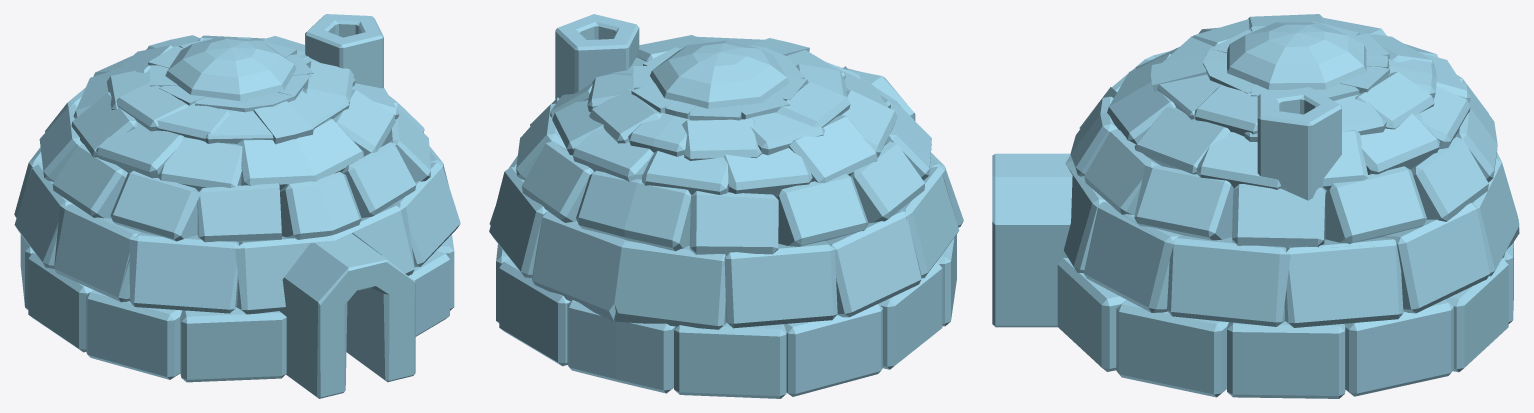
Rendered from iglu.fbx.
The picture shows the model from 3 angles, left to right: view 1: azimuth 30°, elevation 25°; view 2: azimuth 150°, elevation 25°; view 3: azimuth 270°, elevation 25°; orthographic projection. The views are drawn at different scales.
Parts seen in each view (by area): view 1: iglu; view 2: iglu; view 3: iglu.
Part boxes in pixels (bbox=[...]): iglu: bbox=[14, 14, 460, 398]; iglu: bbox=[489, 14, 963, 398]; iglu: bbox=[992, 14, 1519, 398].
Bounding box in the file's own units: 825 × 893 × 502.
